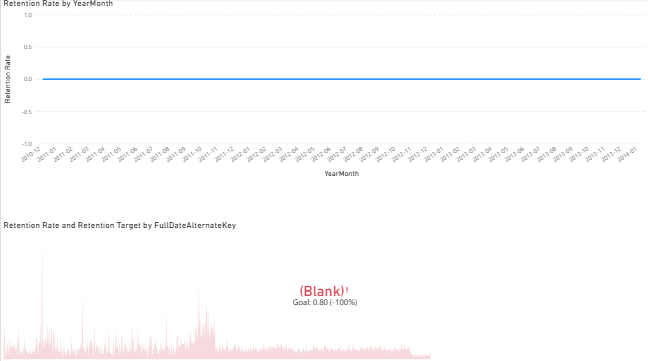

This screenshot's page, from the dashboard's own definition file:
{"tool":"powerbi","page":{"name":"Page 1","canvas":[1280,720],"ordinal":0},"visuals":[{"type":"kpi","fields":{"Indicator":["vw_FactCustomerRetention.Retention Rate"],"Goal":["vw_FactCustomerRetention.Retention Target"],"TrendLine":["DimDate.FullDateAlternateKey"]},"box":[0,438.9,1280,280.4],"z":0},{"type":"lineChart","fields":{"Y":["vw_FactCustomerRetention.Retention Rate"],"Category":["DimDate.YearMonth"]},"box":[0,0,1280,359.6],"z":1}]}

Visuals, with their boxes in screenshot pixels (x1, y1, x2, y2), scaled from the page's 1280x720 canvas onto the 648x361 screenshot:
kpi - vw_FactCustomerRetention.Retention Rate x vw_FactCustomerRetention.Retention Target: 0 220 647 360
lineChart - vw_FactCustomerRetention.Retention Rate x DimDate.YearMonth: 0 0 647 180
